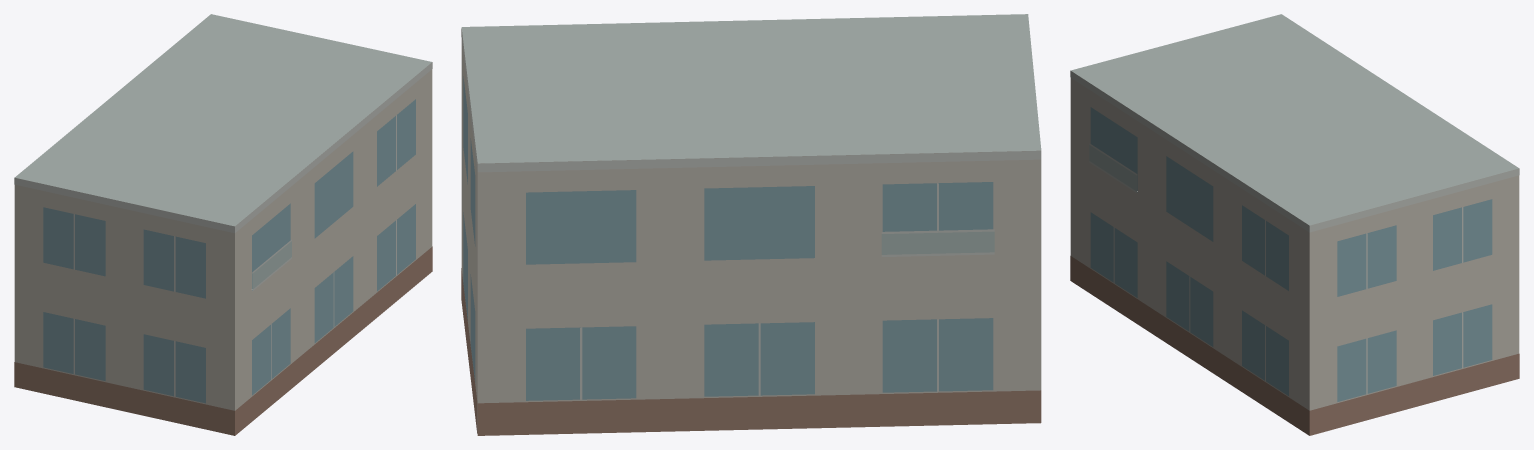
Rendered from survey-upis-32624064.glb.
3 renders of one model, left to right at view 1: azimuth 30°, elevation 25°; view 2: azimuth 150°, elevation 25°; view 3: azimuth 270°, elevation 25°, orthographic. The views are drawn at different scales.
Parts seen in each view (by area): view 1: survey-upis-32624064.tmp; view 2: survey-upis-32624064.tmp; view 3: survey-upis-32624064.tmp.
Part boxes in pixels (<box>): survey-upis-32624064.tmp: <box>14,14,432,435</box>; survey-upis-32624064.tmp: <box>461,14,1041,435</box>; survey-upis-32624064.tmp: <box>1070,14,1519,435</box>.
Size of the model in its own units: 15.98 by 7.4 by 14.33.
